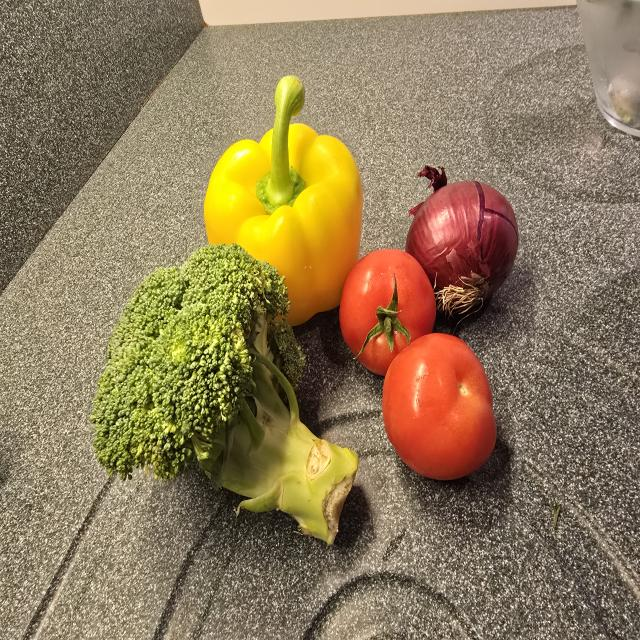Bell Pepper: (204, 75, 363, 326)
Broccoli: (90, 244, 357, 545)
Onion: (405, 166, 518, 322)
Tomato: (382, 333, 496, 480), (339, 249, 436, 376)
